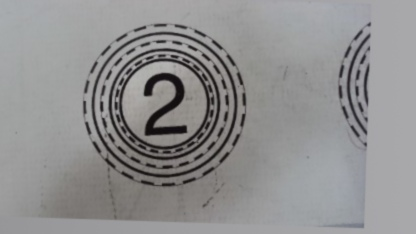2r: (75, 23, 247, 188)
